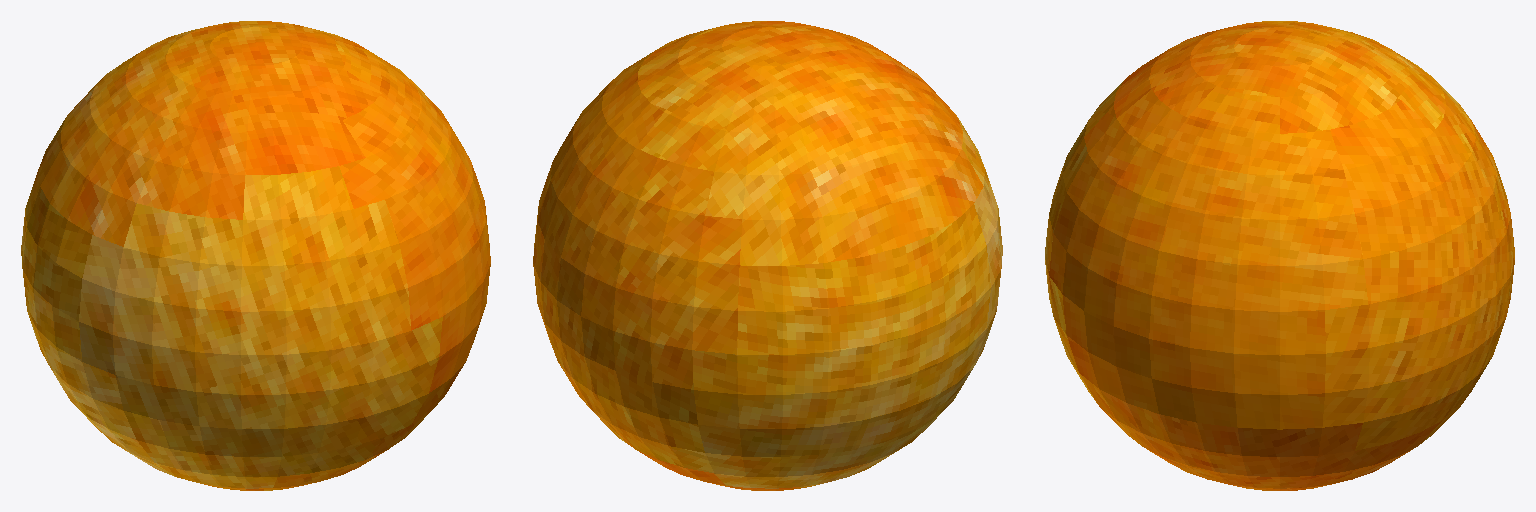
3 renders of one model, left to right at view 1: azimuth 30°, elevation 25°; view 2: azimuth 150°, elevation 25°; view 3: azimuth 270°, elevation 25°, orthographic.
Visible parts, largest first — view 1: Sphere; view 2: Sphere; view 3: Sphere.
Boxes of the visible parts, <box> form: Sphere: <box>21,21,490,490</box>; Sphere: <box>533,21,1002,490</box>; Sphere: <box>1045,21,1514,490</box>.
Bounding box in the file's own units: 2 × 2 × 2.
Materials: 1 (1 with a texture image).